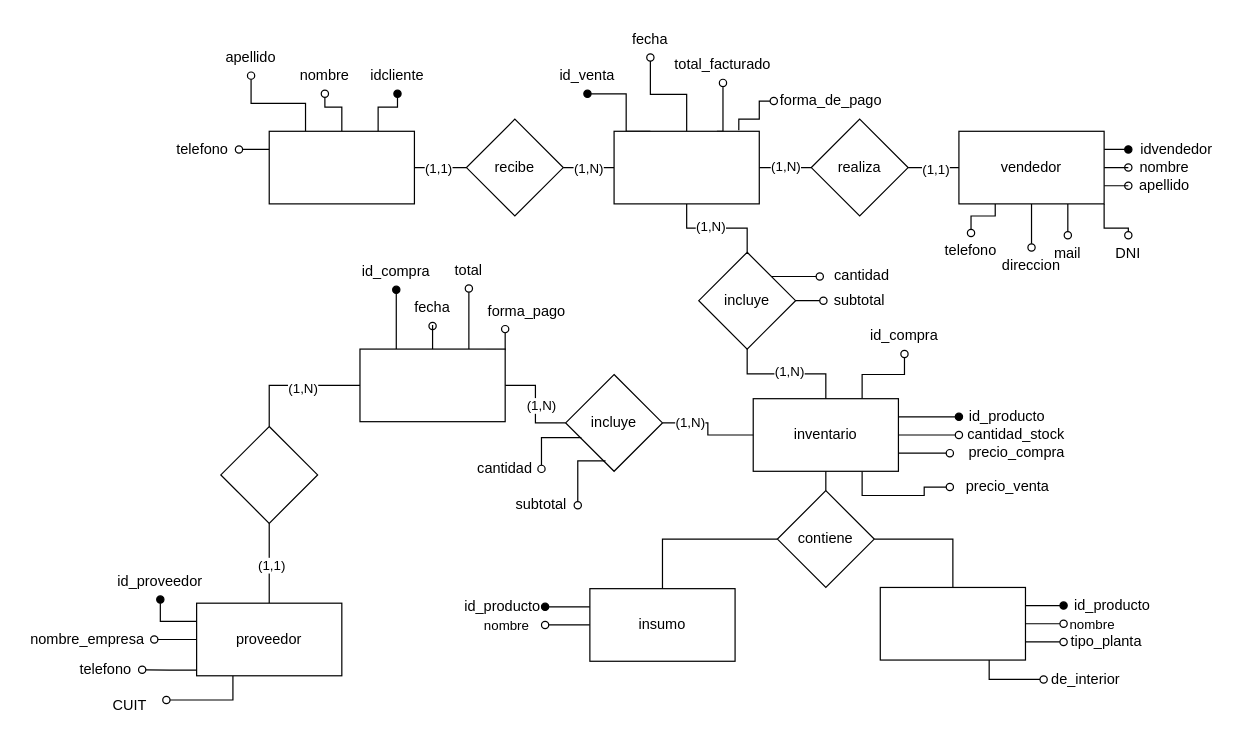
Some shapes in this 1245 by 744 pixel diagram are drawn without their labels. The shapes that lost their labels are listed below. From the top down, each one's centre as x and y in pixels, then its label:
At point 341,167: "clientes".
At point 686,167: "ticket_venta".
At point 432,385: "compra".
At point 269,474: "provee".
At point 952,623: "planta".
